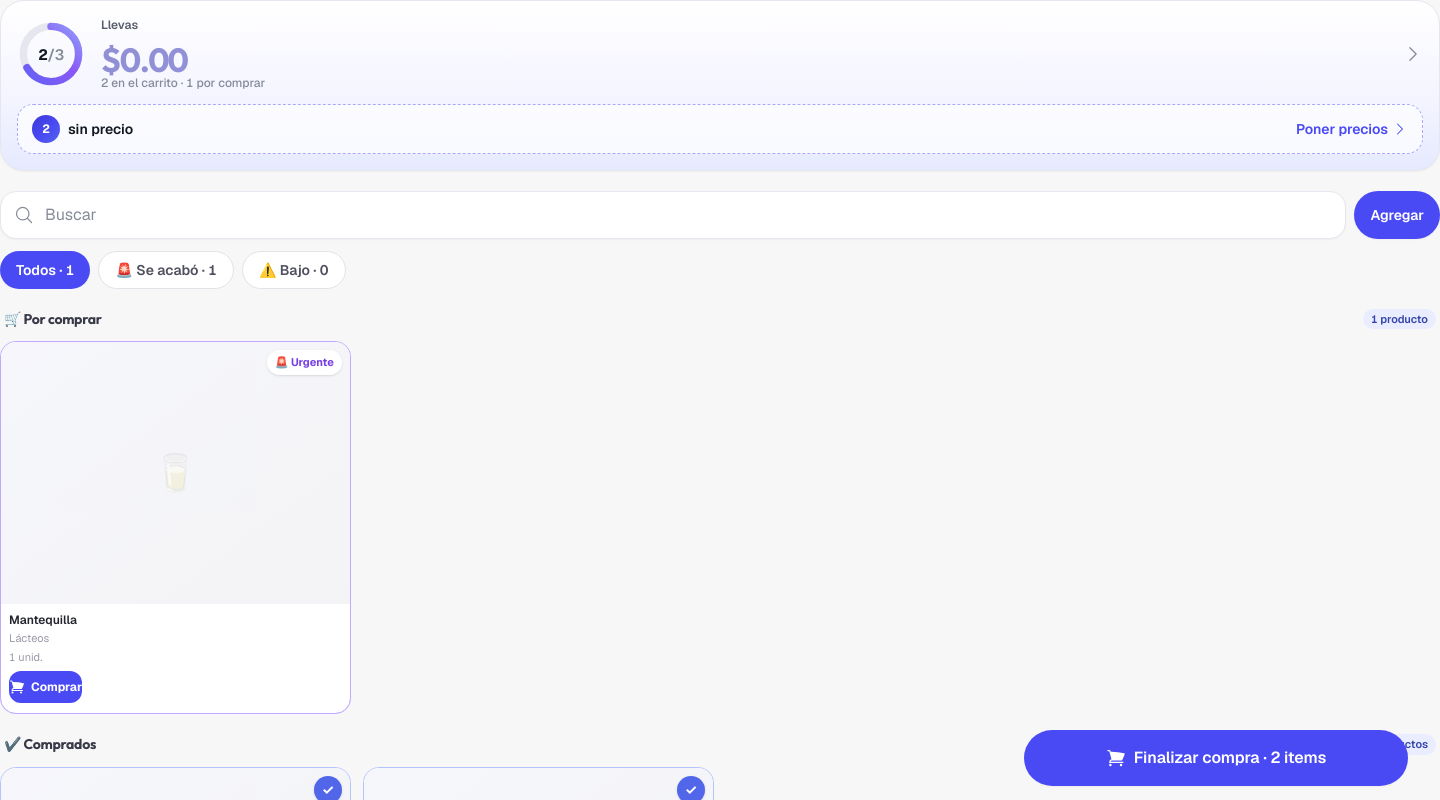
Test: SupermarketView · «ya no lo necesito» › y no lo deja apartado: no vuelve al finalizar la compra
Click the text "Mantequilla". click: point(46, 620)
box: left=9, top=612, right=82, bottom=628
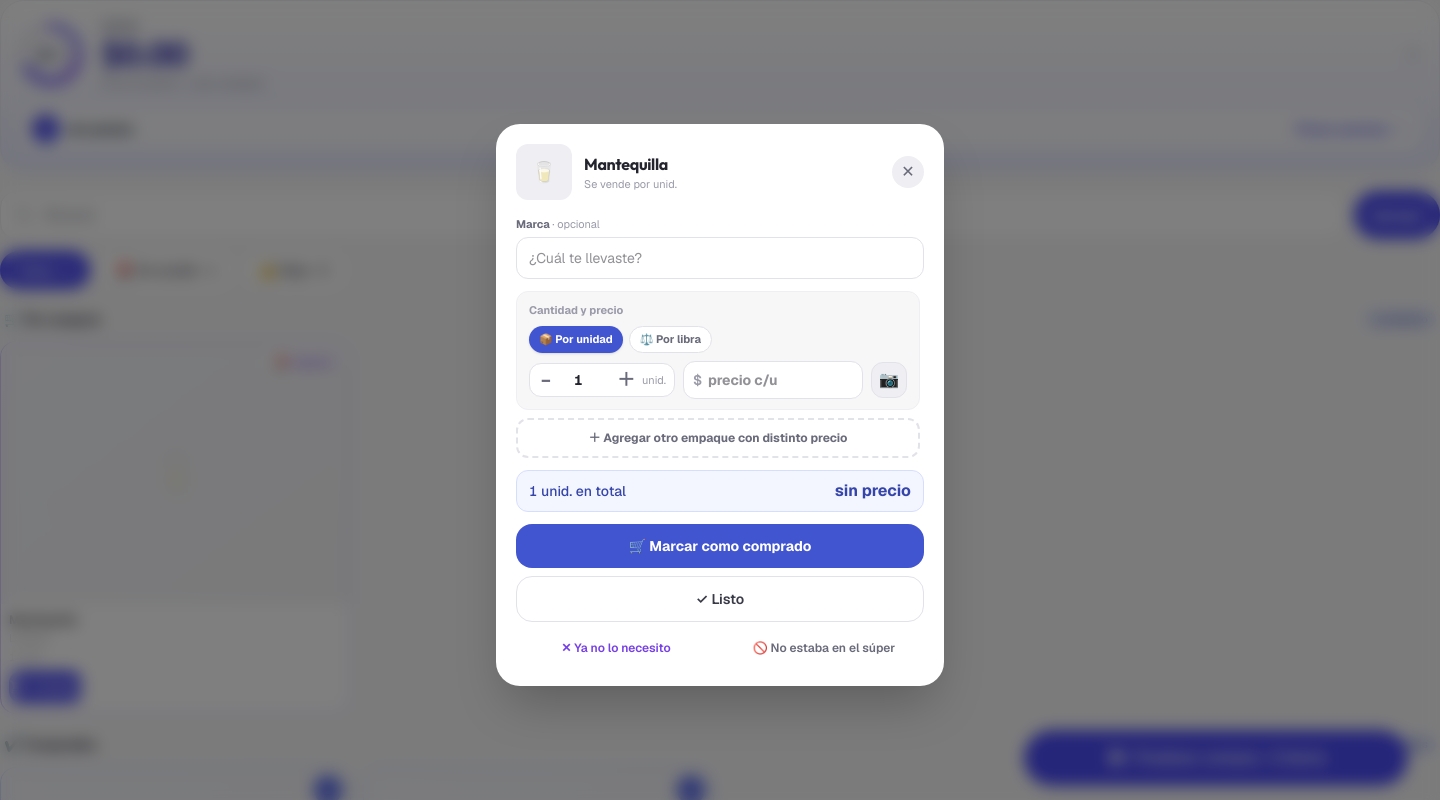
Click the button "✕ Ya no lo necesito". click: point(616, 648)
box: left=516, top=630, right=716, bottom=666
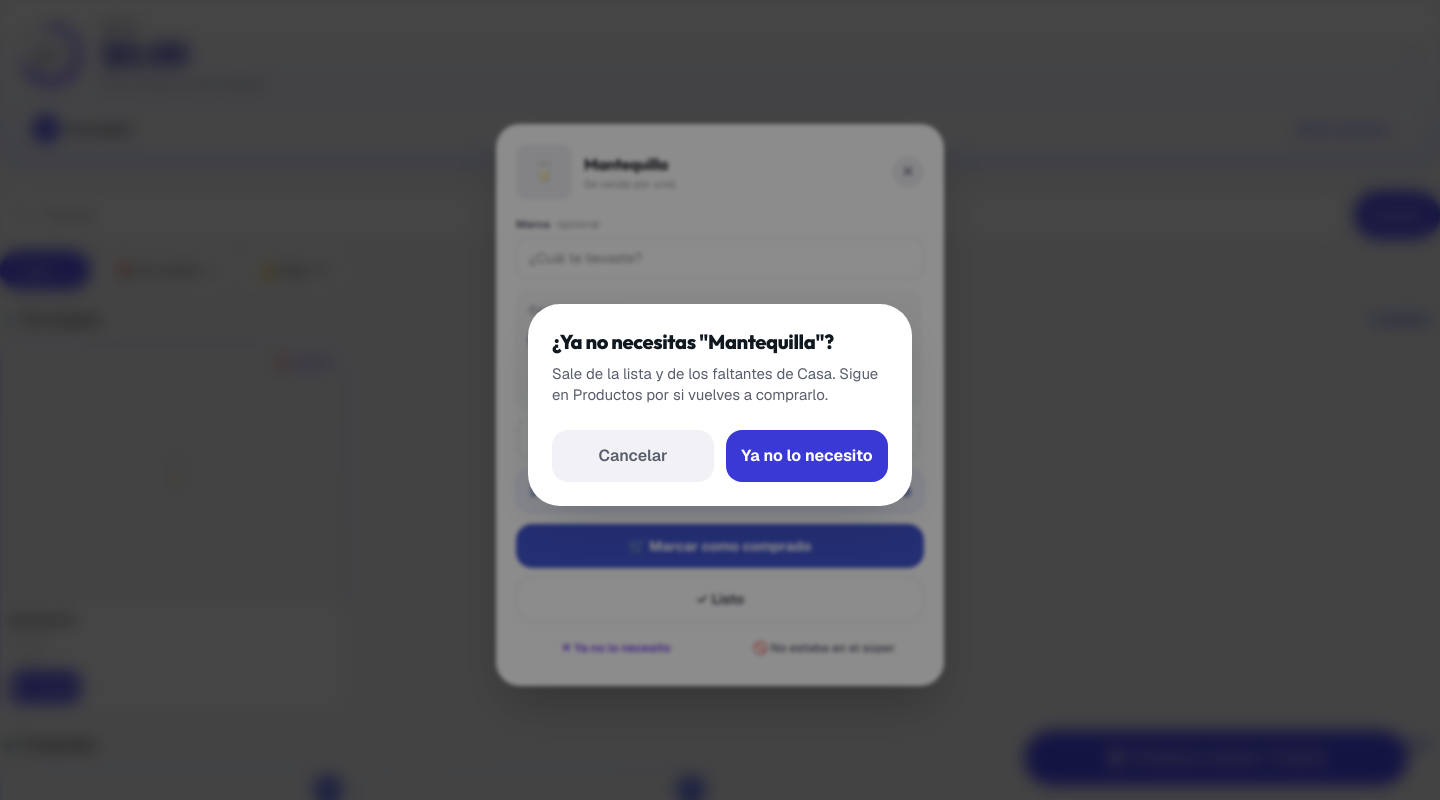
Click the button "Ya no lo necesito". click: point(807, 456)
box: left=726, top=430, right=888, bottom=482
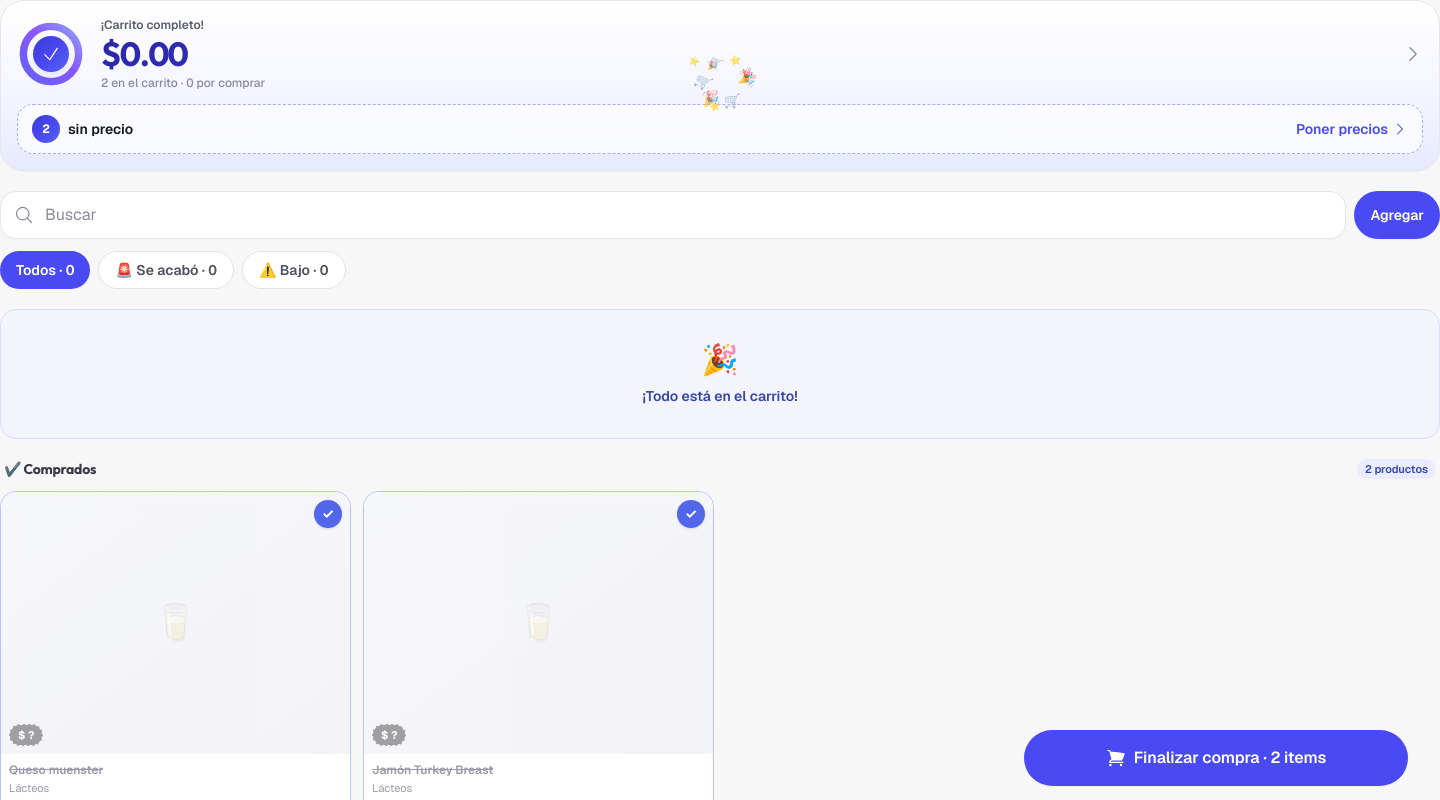
Result: the heading "Ya no necesitas" is gone
